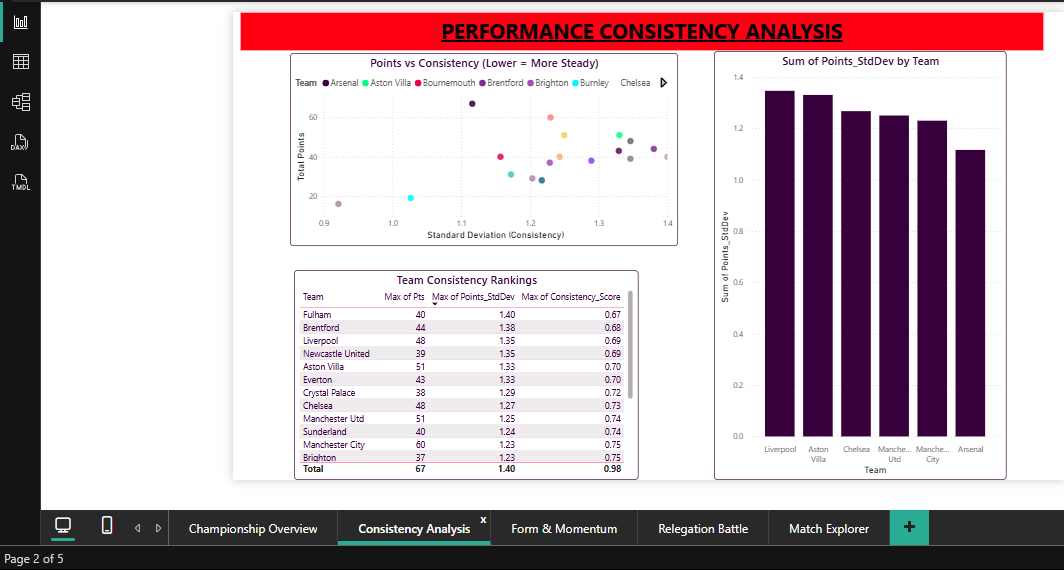

This screenshot's page, from the dashboard's own definition file:
{"tool":"powerbi","page":{"name":"Consistency Analysis","canvas":[1280,720],"ordinal":1},"visuals":[{"type":"textbox","box":[10,0,1236.7,60],"z":0},{"type":"scatterChart","title":"Points vs Consistency  (Lower = More Steady)","fields":{"X":["Sum(Consistency_Analysis.Points_StdDev)"],"Y":["Sum(Consistency_Analysis.Pts)"],"Series":["Consistency_Analysis.Team"]},"box":[88.3,63.3,596.7,296.7],"z":1000},{"type":"tableEx","title":"Team Consistency Rankings","fields":{"Values":["Consistency_Analysis.Team","Max(Consistency_Analysis.Pts)","Max(Consistency_Analysis.Points_StdDev)","Max(Consistency_Analysis.Consistency_Score)"]},"box":[93.3,396.7,530,323.3],"z":2000},{"type":"clusteredColumnChart","fields":{"Category":["Consistency_Analysis.Team"],"Y":["Sum(Consistency_Analysis.Points_StdDev)"]},"box":[740,60,450,660],"z":3000}]}

Visuals, with their boxes on the page's 1280x720 design canvas (x1, y1, x2, y2). These are canvas units, not pixel positions in the 1064x570 screenshot, which may show the page scaled, cropped or inside an application window:
textbox: bbox(10, 0, 1247, 60)
"Points vs Consistency  (Lower = More Steady)" scatterChart: bbox(88, 63, 685, 360)
"Team Consistency Rankings" tableEx: bbox(93, 397, 623, 720)
clusteredColumnChart - Consistency_Analysis.Team x Sum(Consistency_Analysis.Points_StdDev): bbox(740, 60, 1190, 720)
